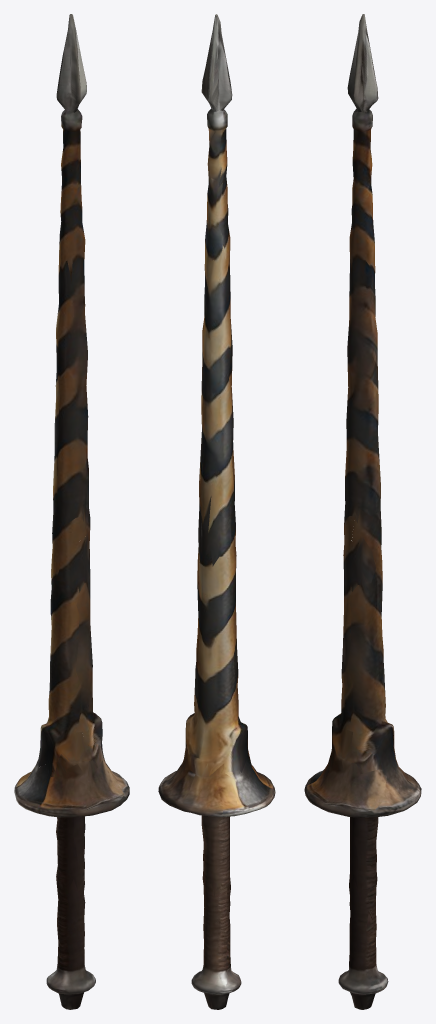
File: gold_tourney_lance.glb
The picture shows the model from 3 angles, left to right: view 1: azimuth 30°, elevation 25°; view 2: azimuth 150°, elevation 25°; view 3: azimuth 330°, elevation 25°; orthographic projection.
Visible parts, largest first — view 1: gold_tourney_lance; view 2: gold_tourney_lance; view 3: gold_tourney_lance.
Boxes of the visible parts, bbox=[...] form: gold_tourney_lance: bbox=[14, 14, 129, 1009]; gold_tourney_lance: bbox=[158, 14, 275, 1009]; gold_tourney_lance: bbox=[304, 14, 421, 1009].
Size of the model in its own units: 0.3238 by 3 by 0.3107.
1 material, 1 textured.
